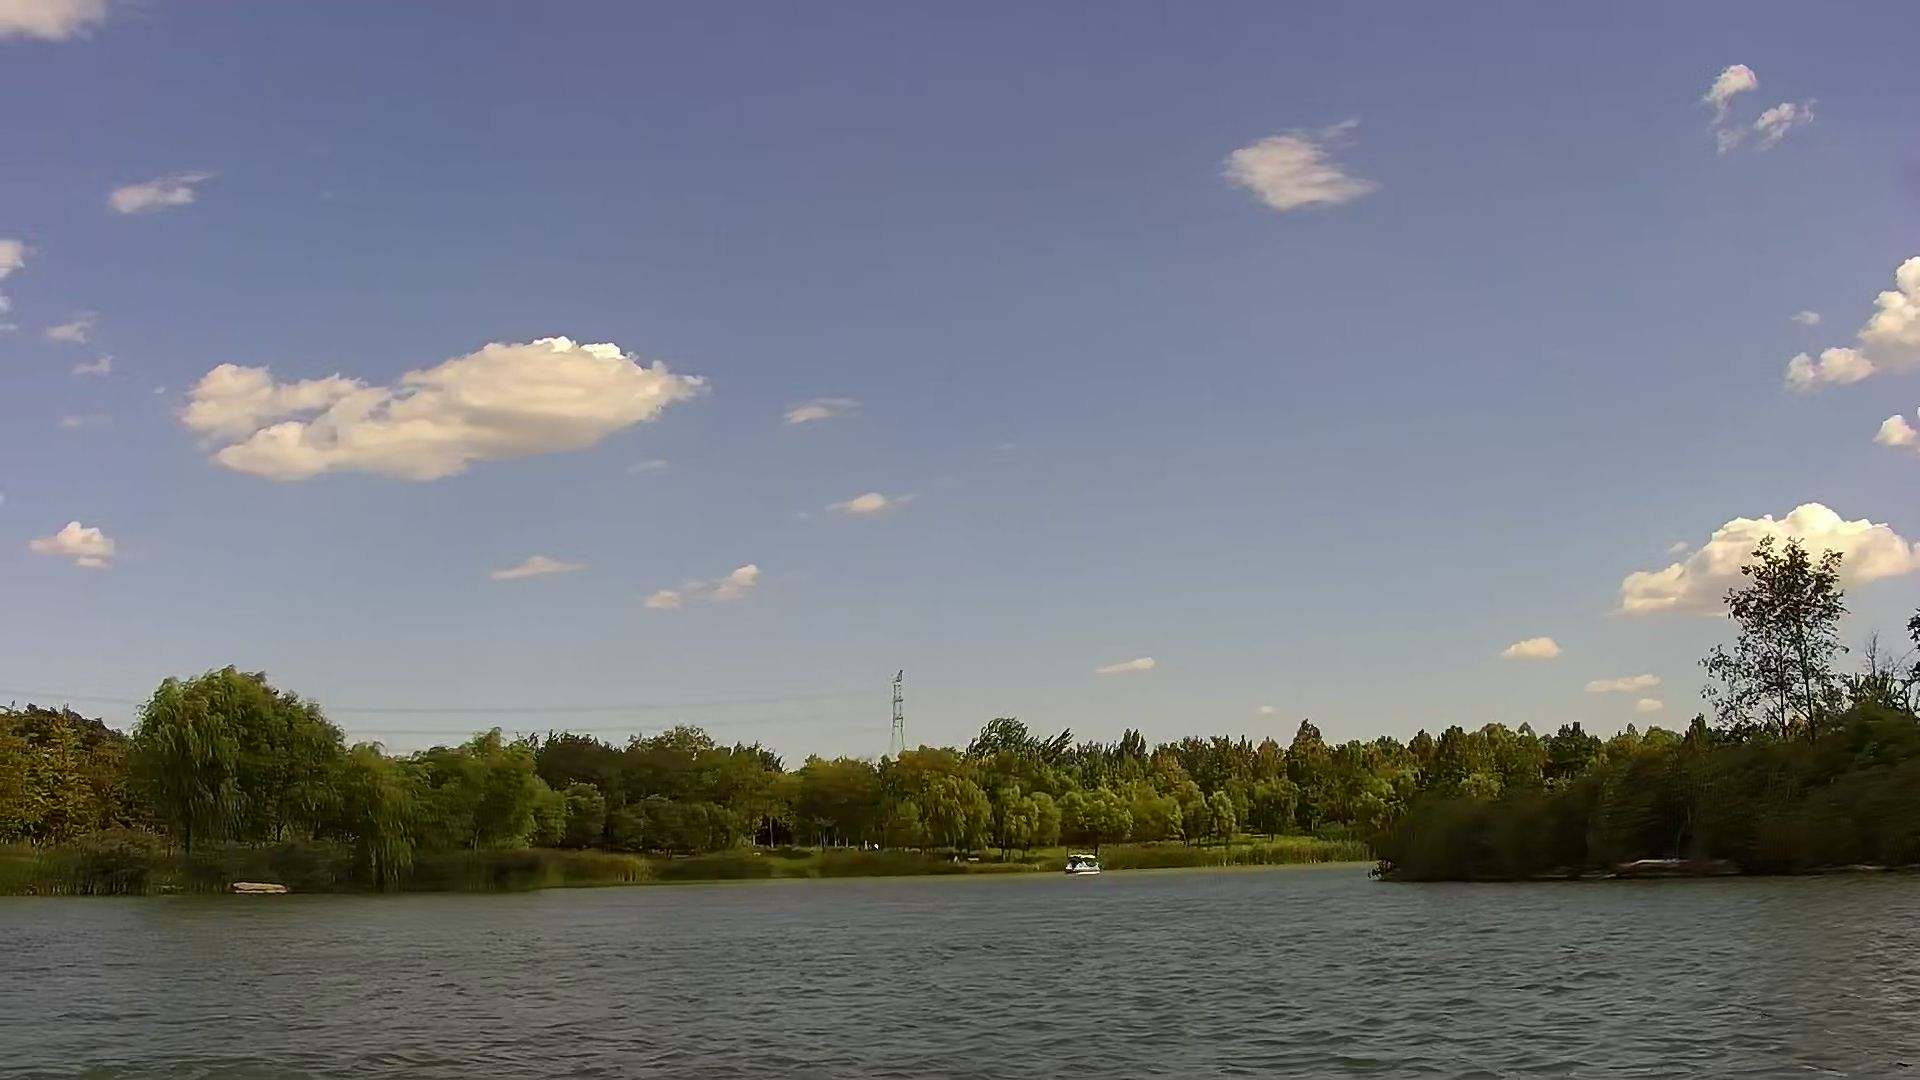boat: (1060, 852, 1095, 880)
rock: (1619, 852, 1687, 885), (231, 878, 284, 897)
